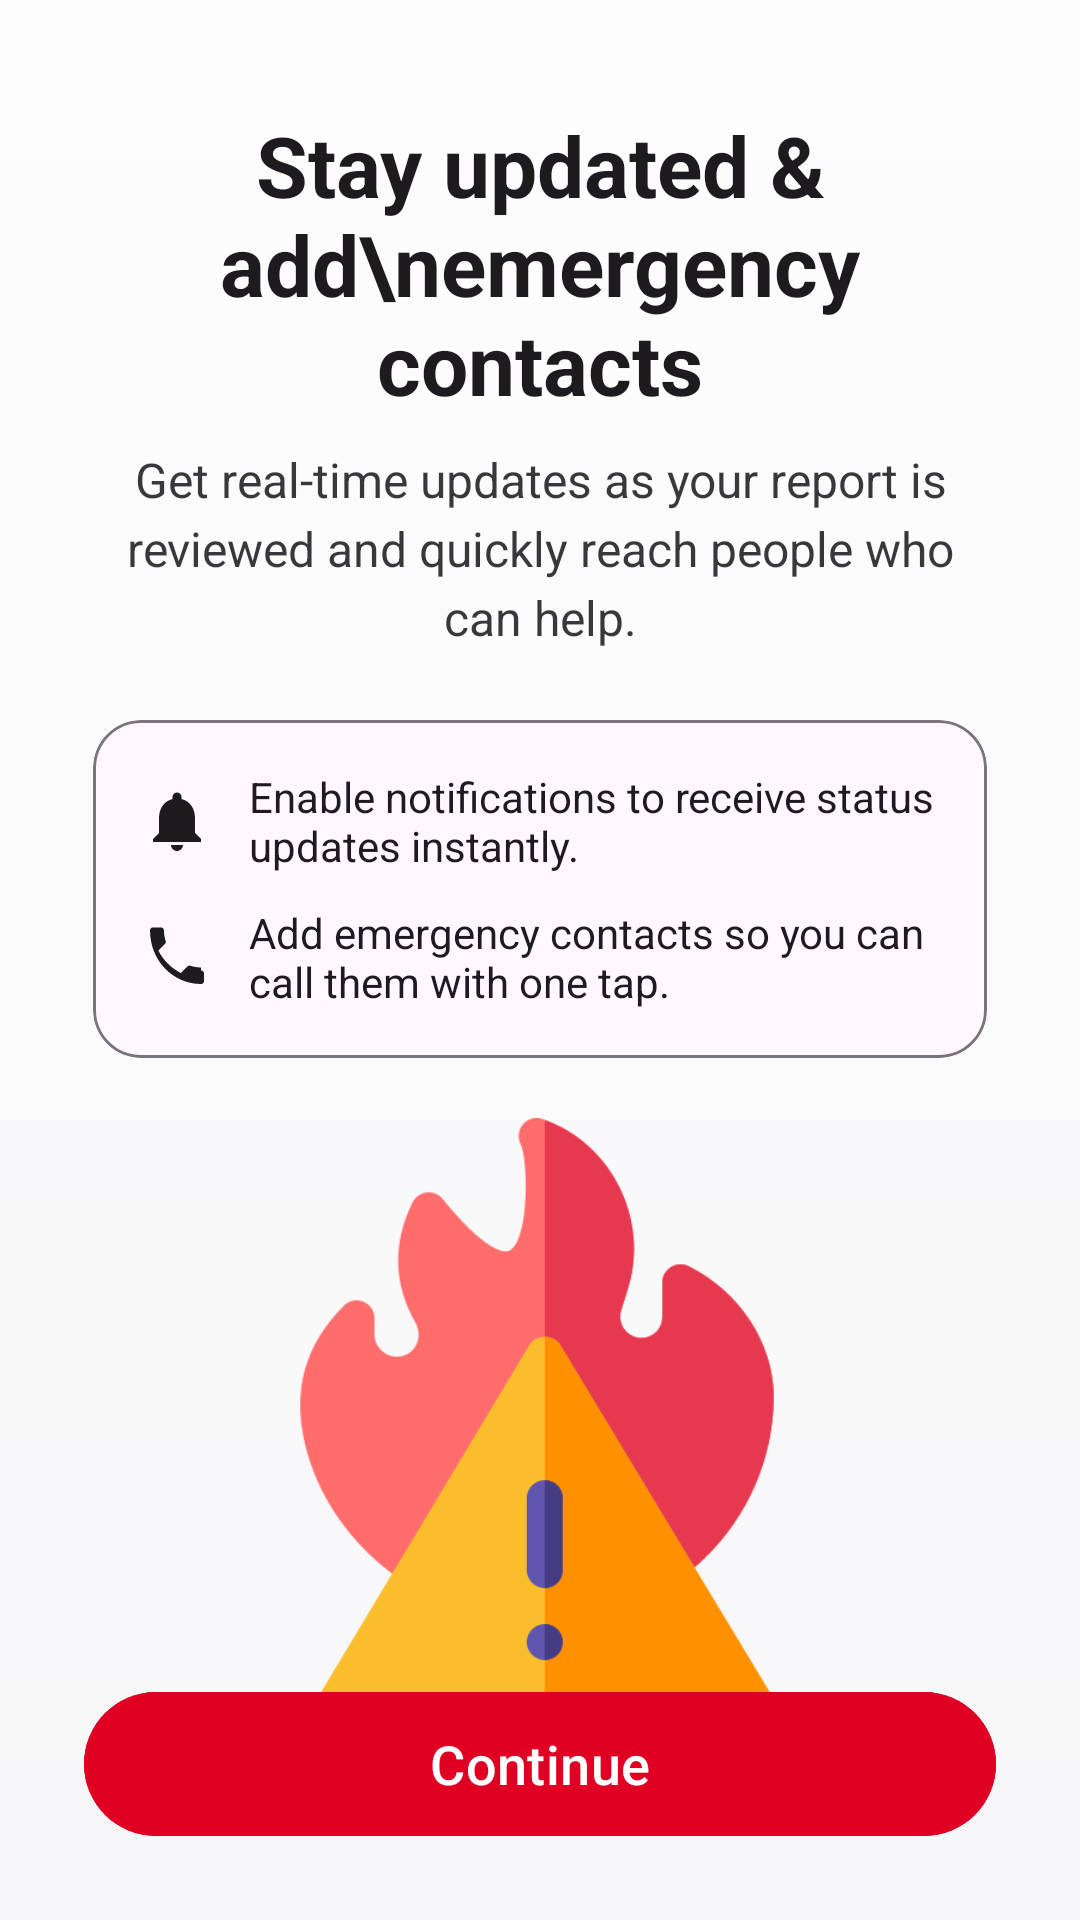

Icon bounding boxes for this 1080*1920 phone screenshot, format (x1, y1, x2, y2):
Real-time alerts: (153, 792, 201, 851)
